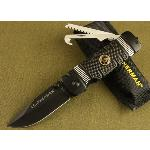Pisau: (0, 21, 144, 129)
